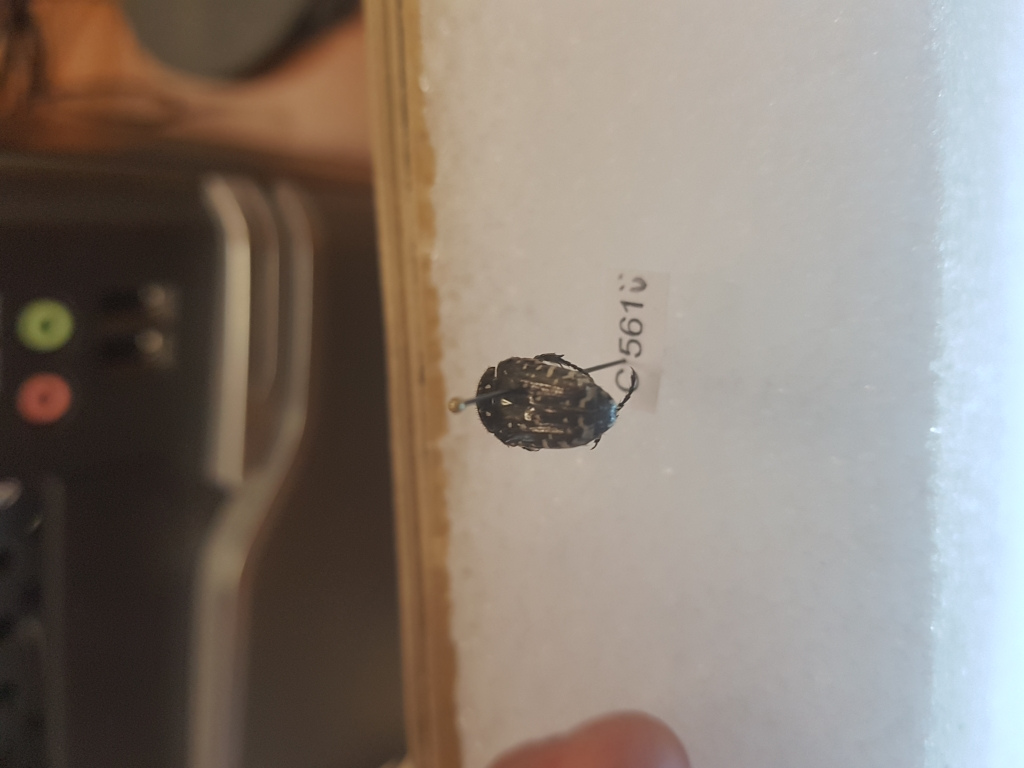Oxythyrea_funesta: (462, 351, 643, 459)
